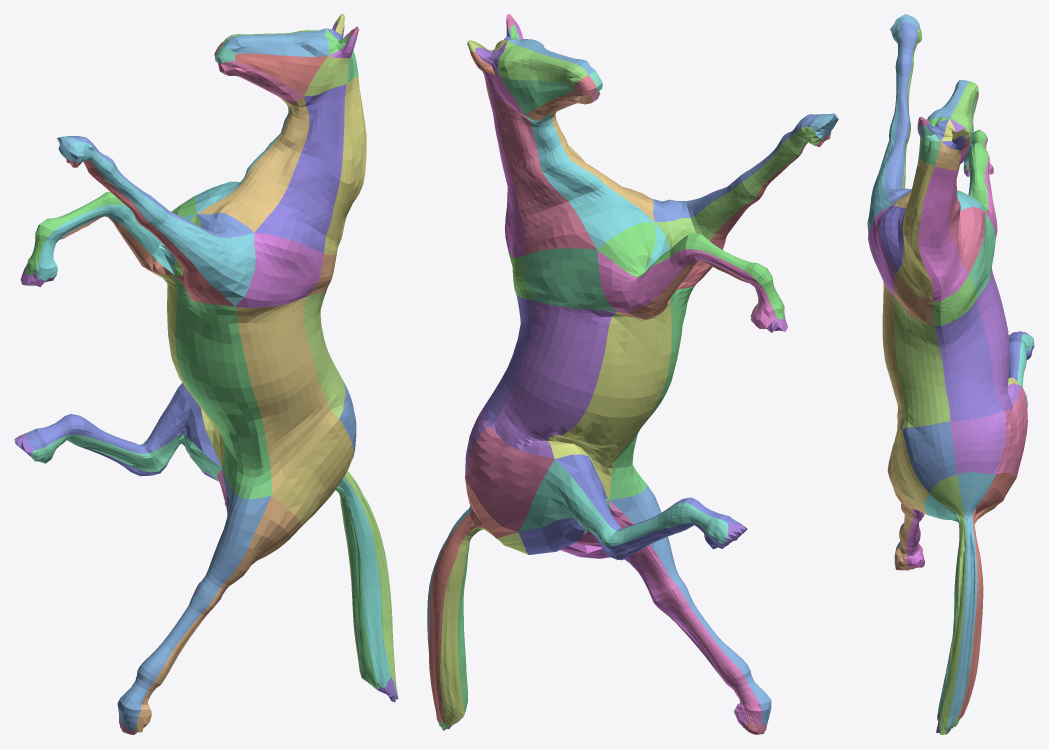
File: horse05_output.obj
The picture shows the model from 3 angles, left to right: view 1: azimuth 30°, elevation 25°; view 2: azimuth 150°, elevation 25°; view 3: azimuth 270°, elevation 25°; orthographic projection. The views are drawn at different scales.
Size of the model in its own units: 0.6866 by 1.26 by 0.3196.
